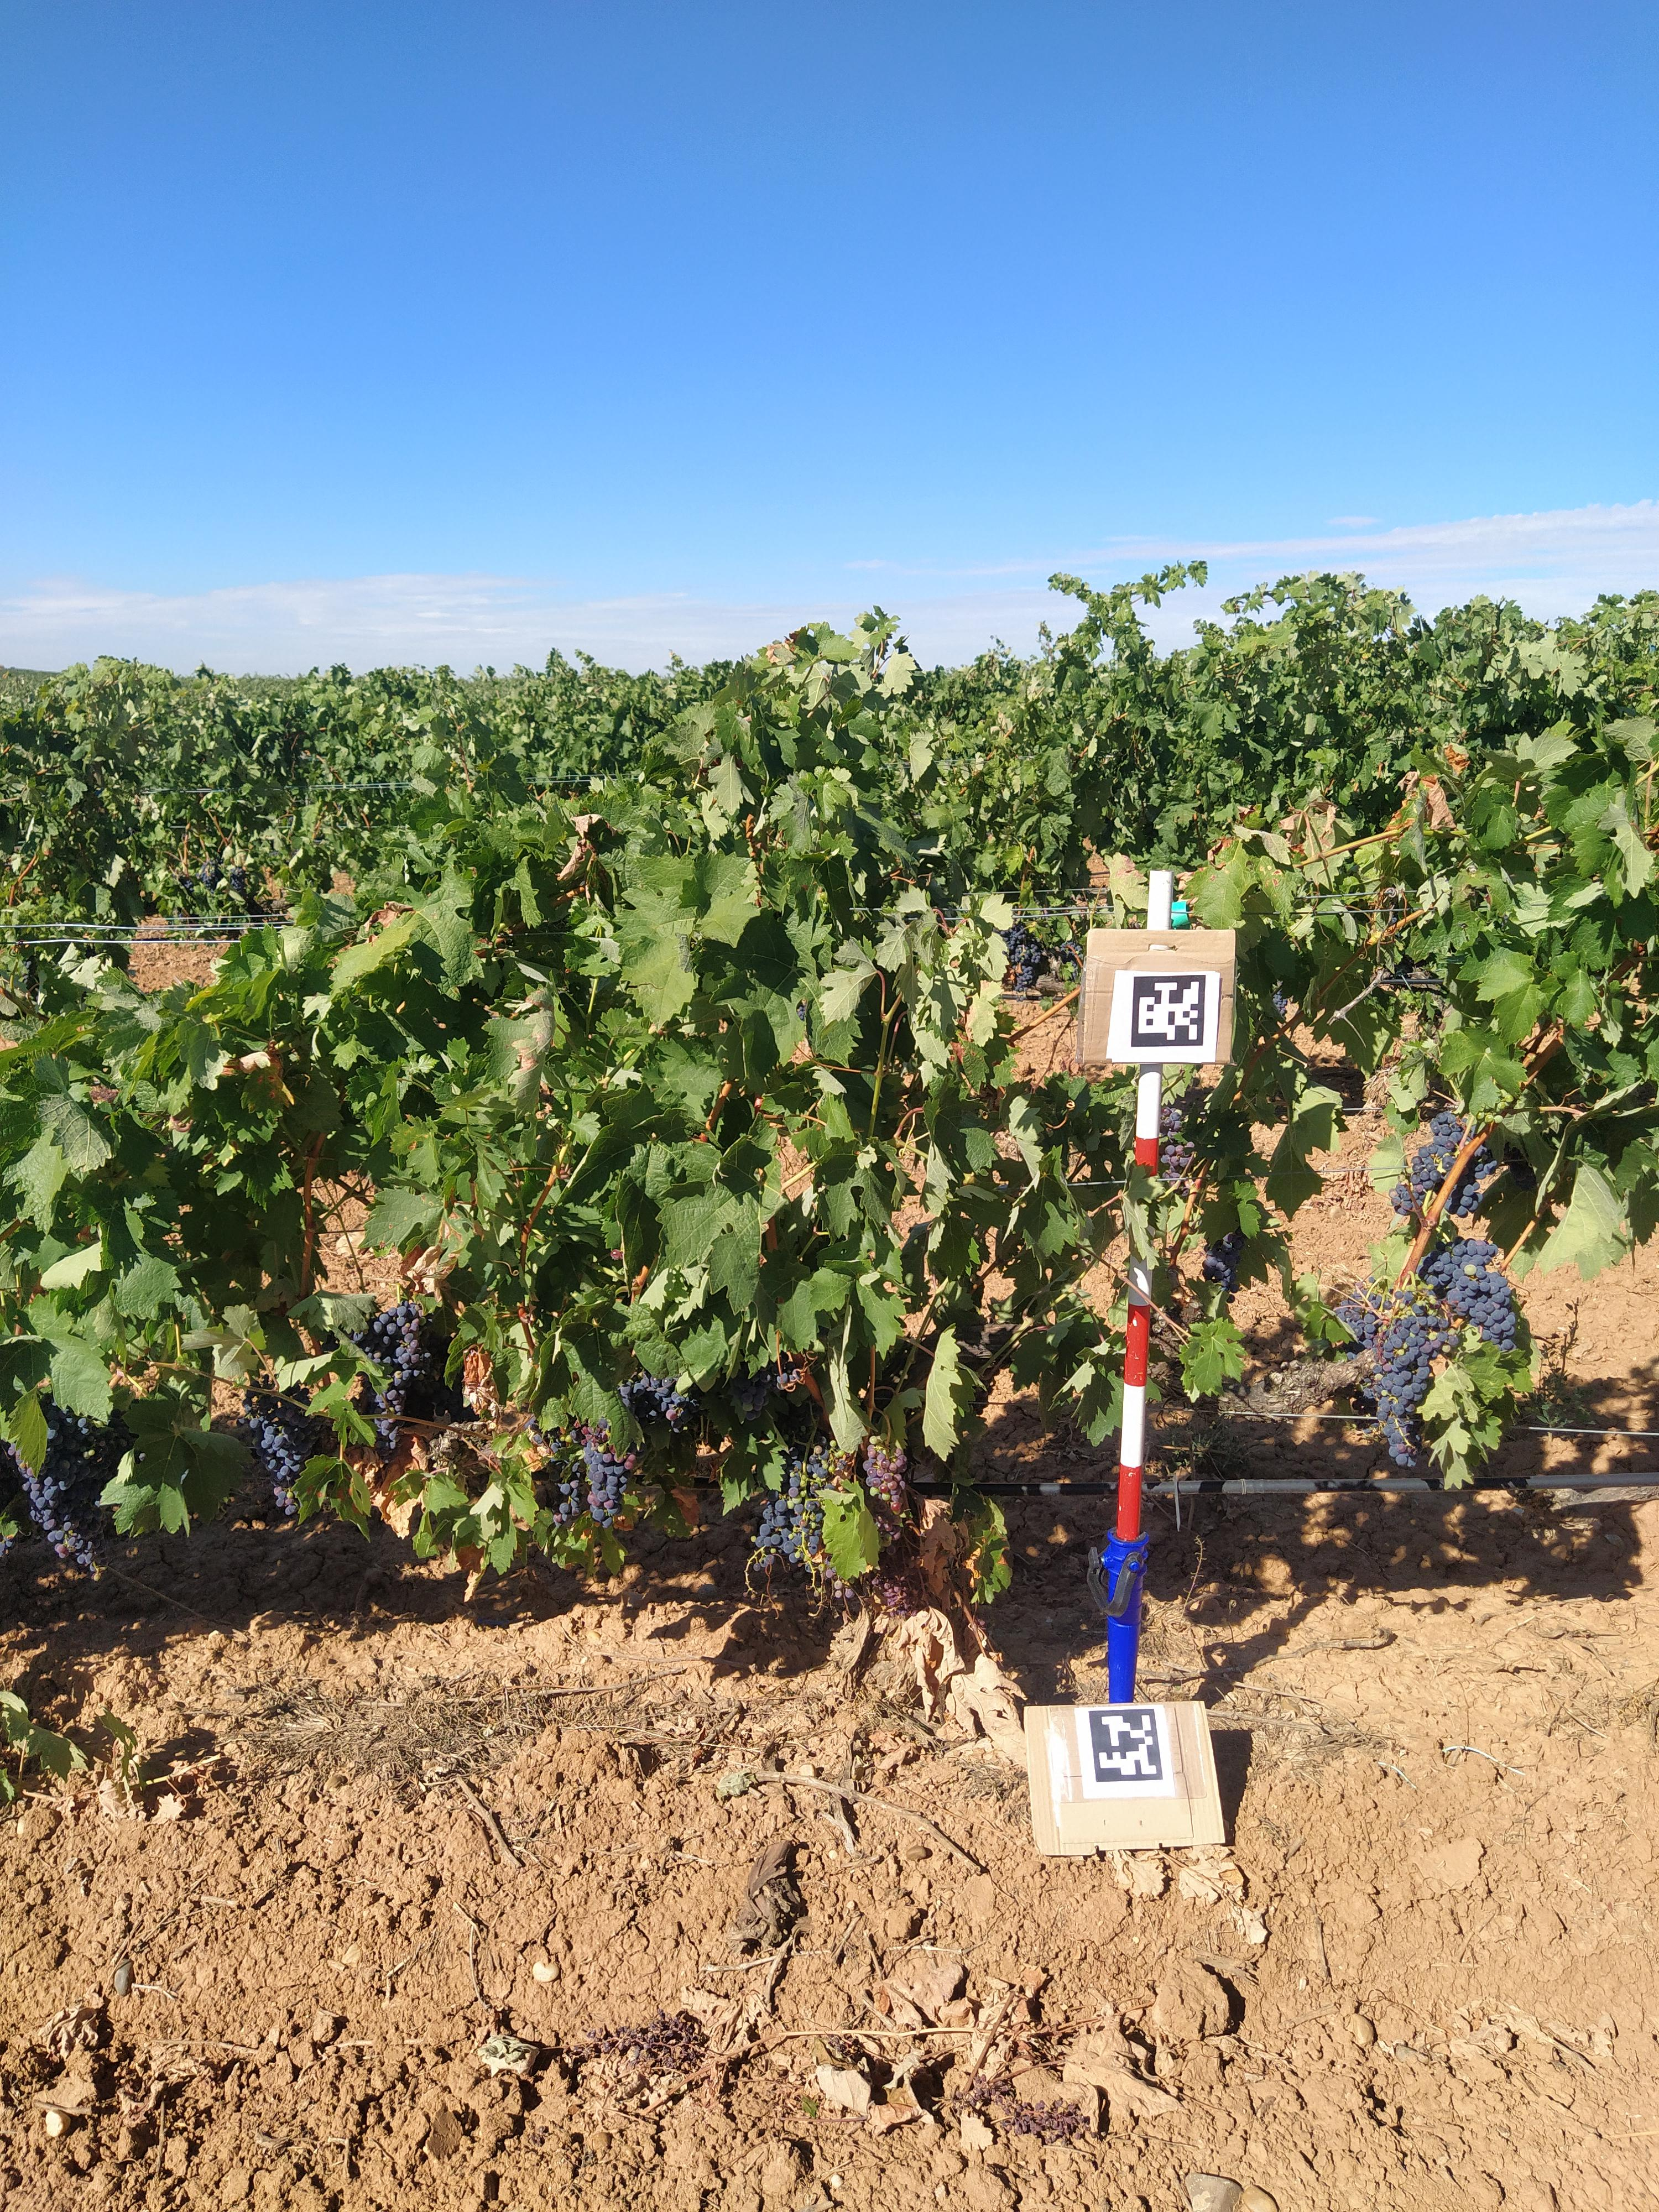QR: (1127, 972, 1209, 1050), (1087, 1702, 1162, 1787)
